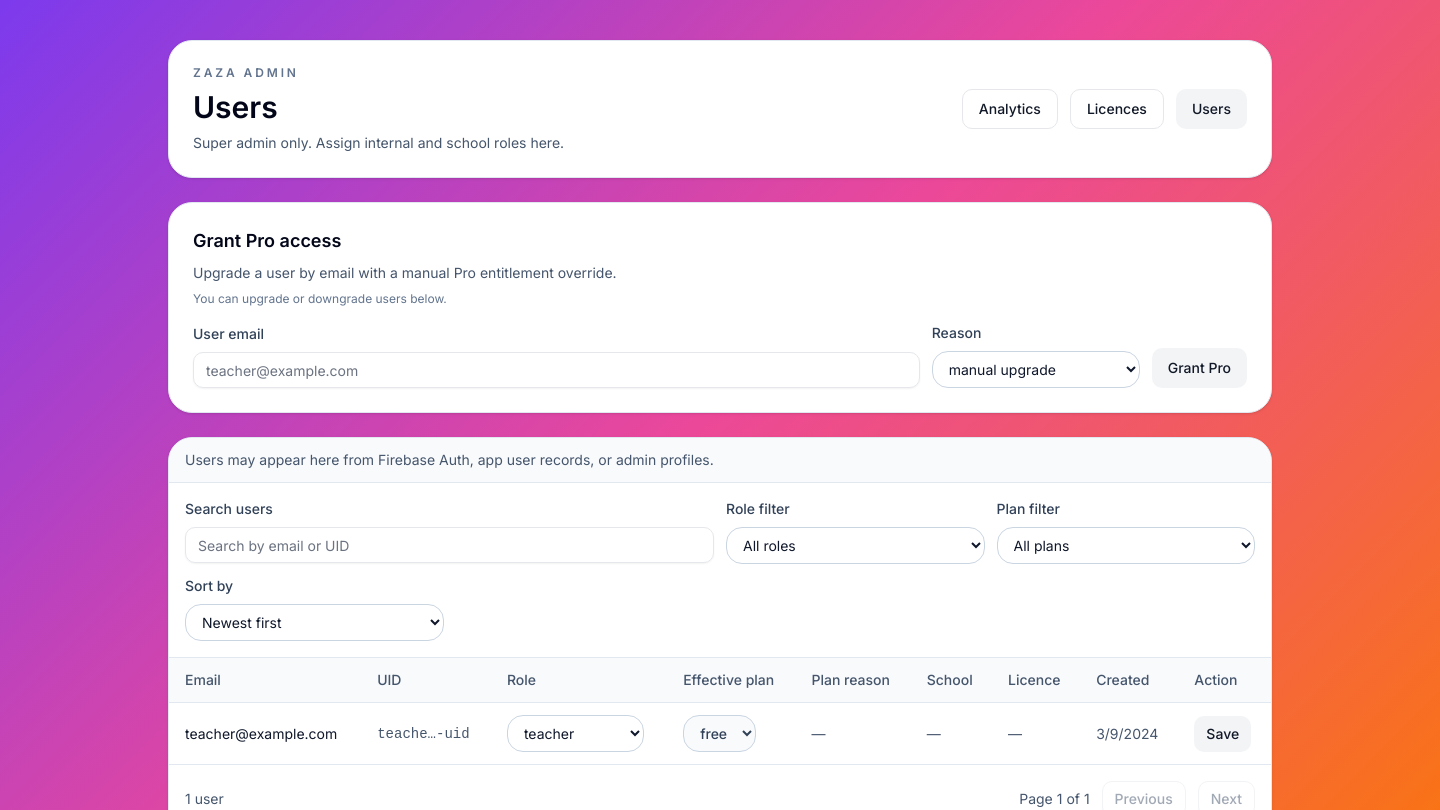
Test case: AdminUsersPage › saves a plan change through the new admin users plan endpoint
Check: the text "teacher@example.com" is shown, box [169,702,361,764]
Select "pro" in the dropdown named "Effective plan for teacher@example.com": x=720, y=734 [683,715,756,752]
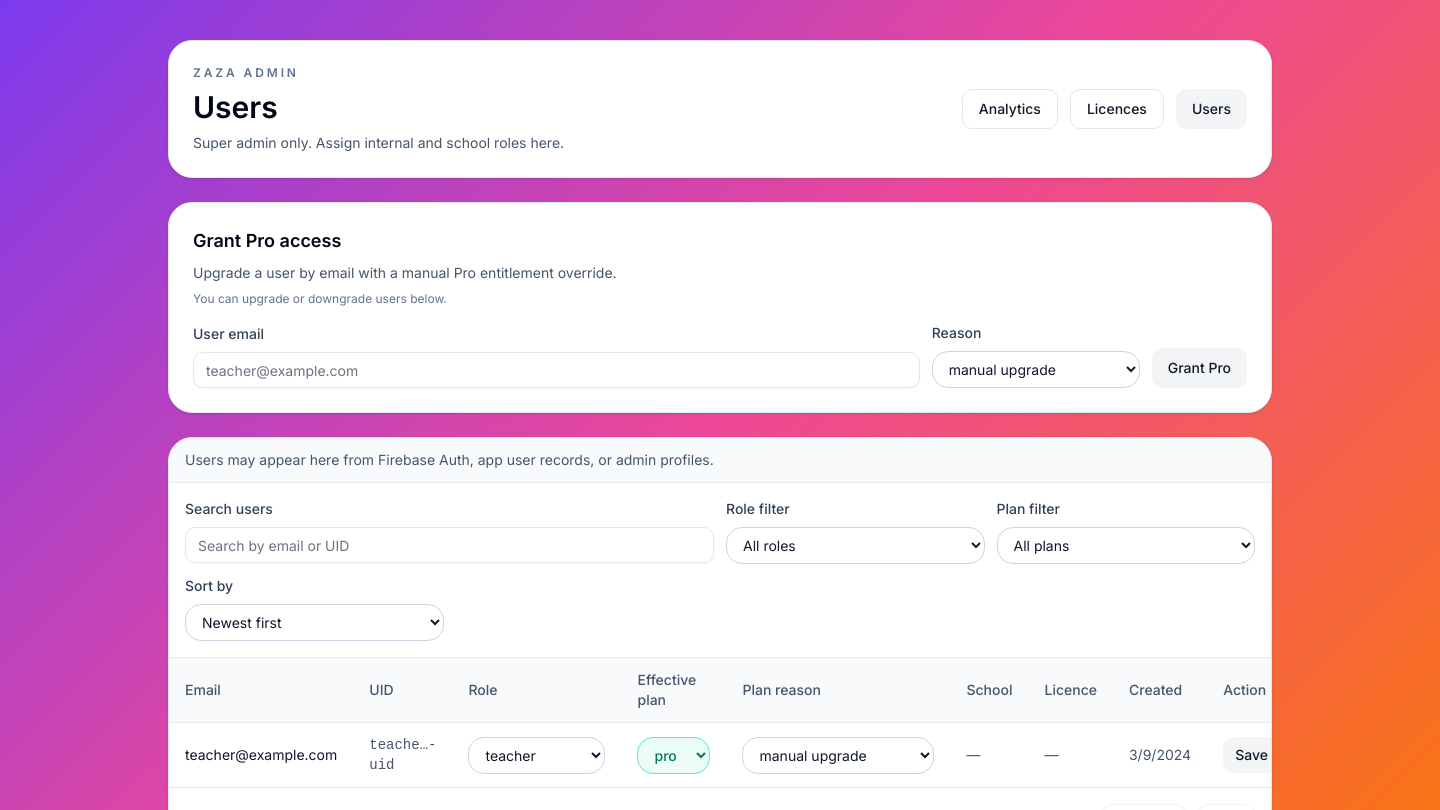
Select "school pilot" in the dropdown named "Plan reason for teacher@example.com": x=838, y=755 [742,736,934,774]
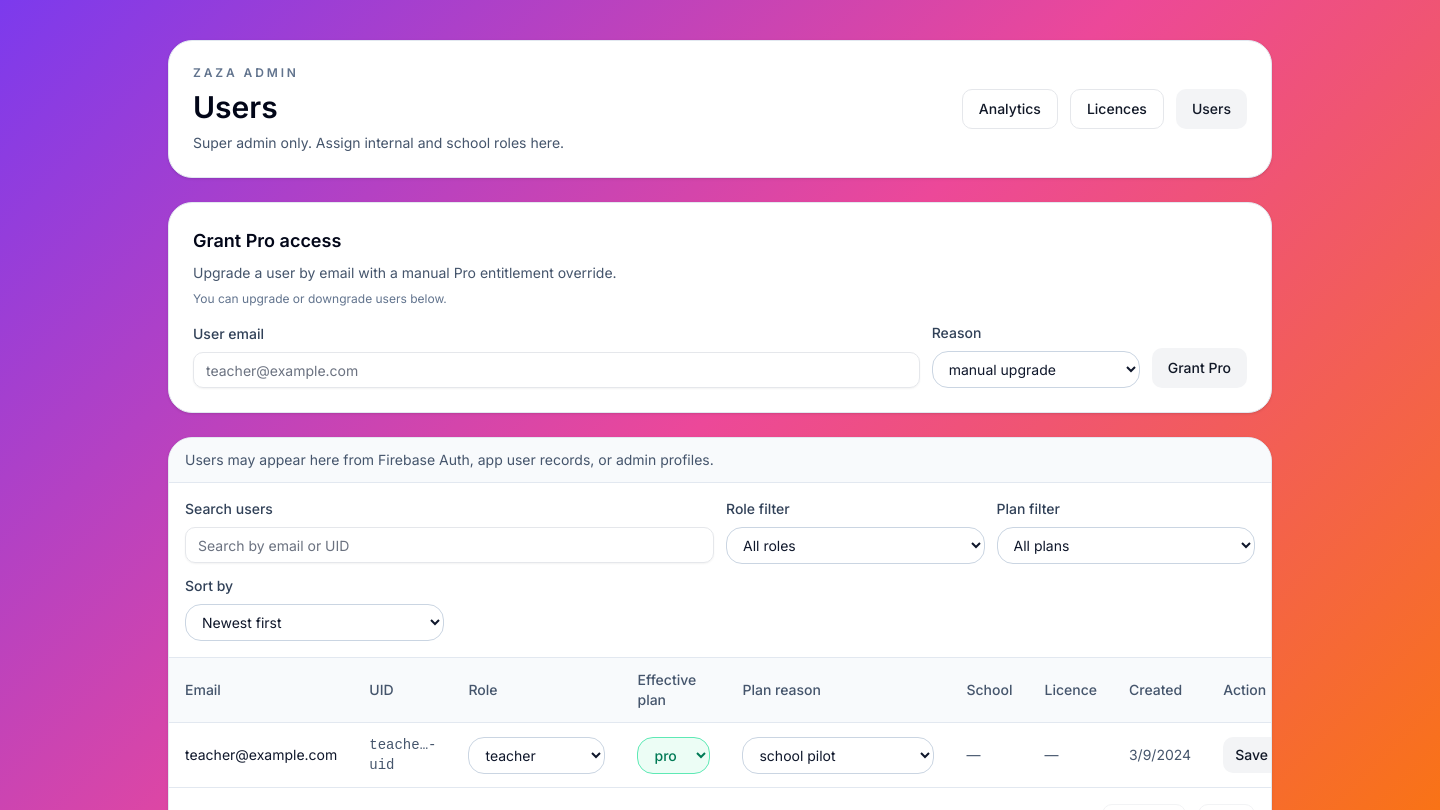
Click the button "Save": x=1252, y=755 [1223,737,1280,773]
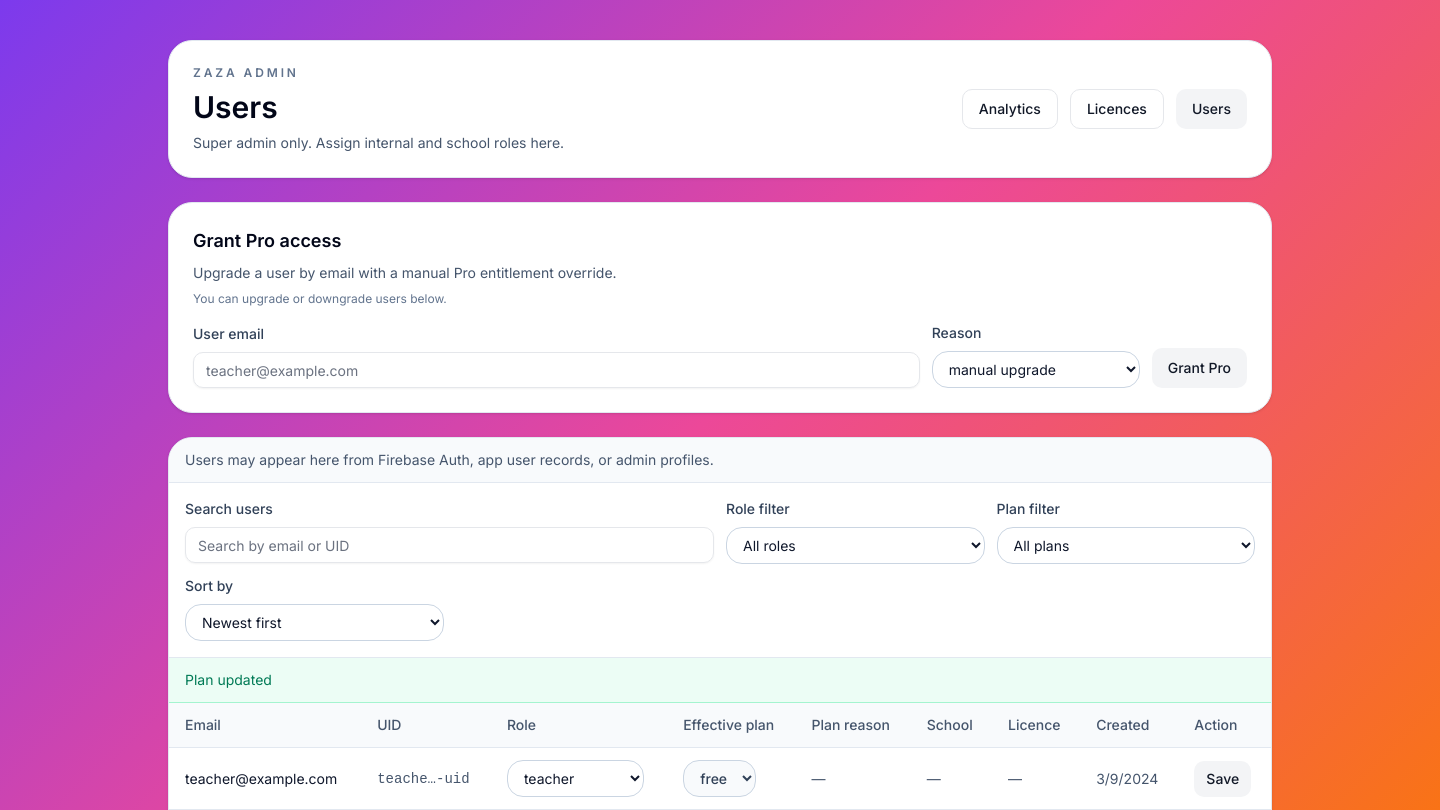
Check: the text "Plan updated" is shown, box [169,658,1271,703]
